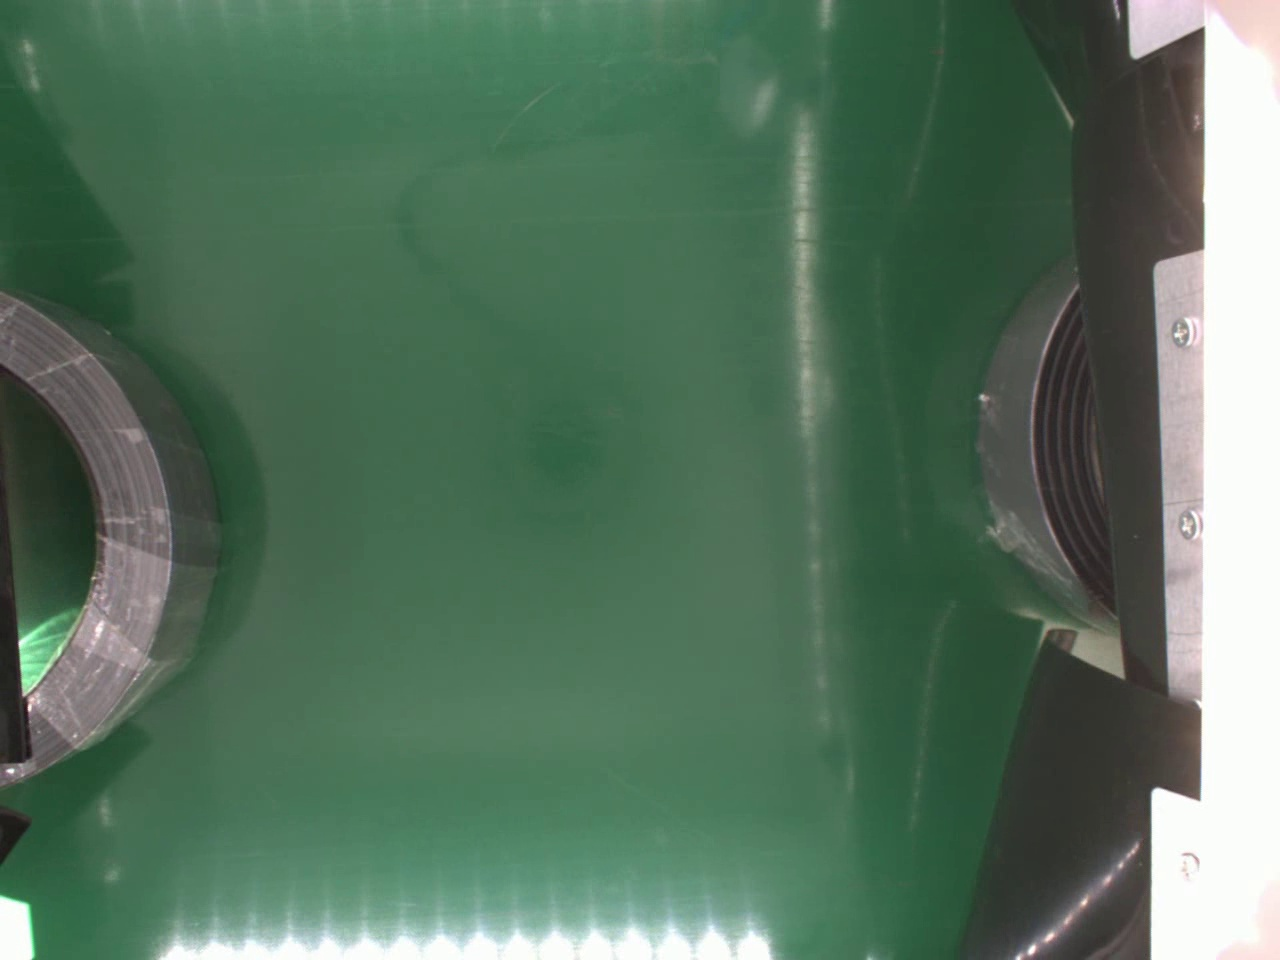black: (0, 285, 221, 794), (973, 242, 1115, 643)
